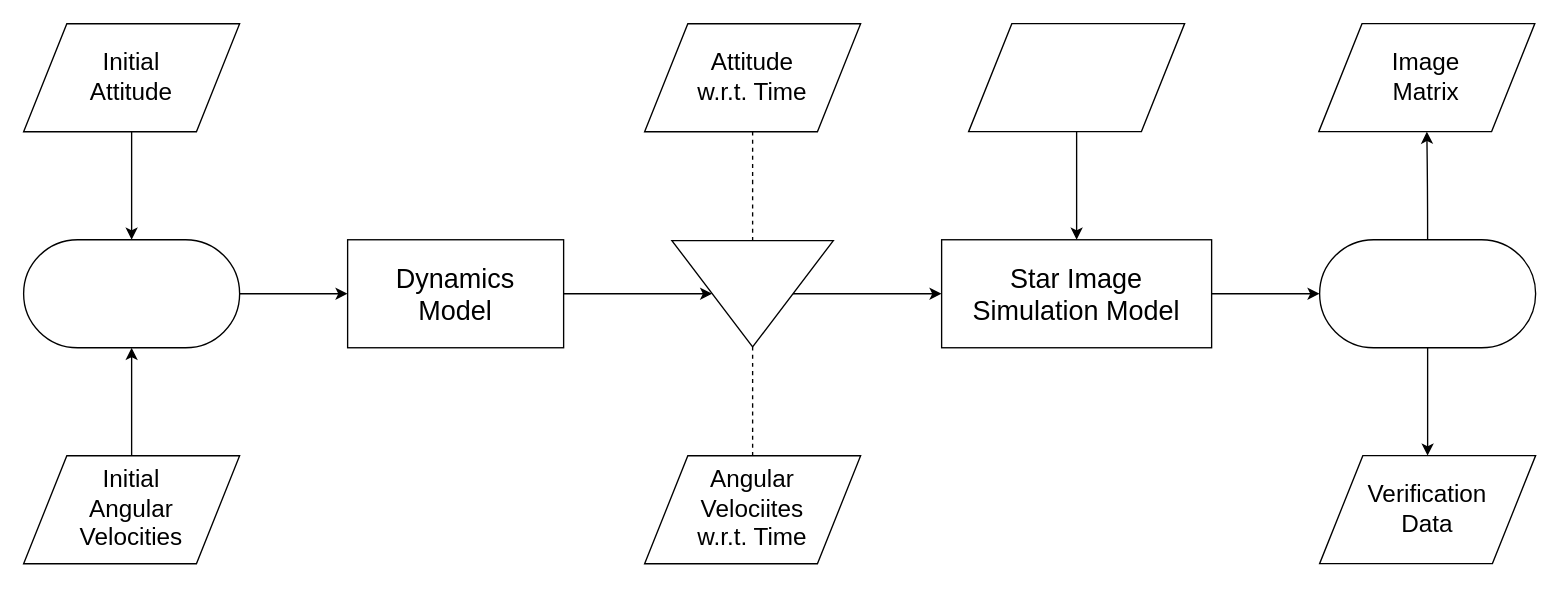
The diagram is 1559 pixels wide and 589 high, and some of its shapes have lost their labels. The centre of each missing label's shape, as x and y in pixels:
"Inputs" belongs at [131,293].
"Outputs" belongs at [1427,293].
"SISM Inputs" belongs at [1076,77].
